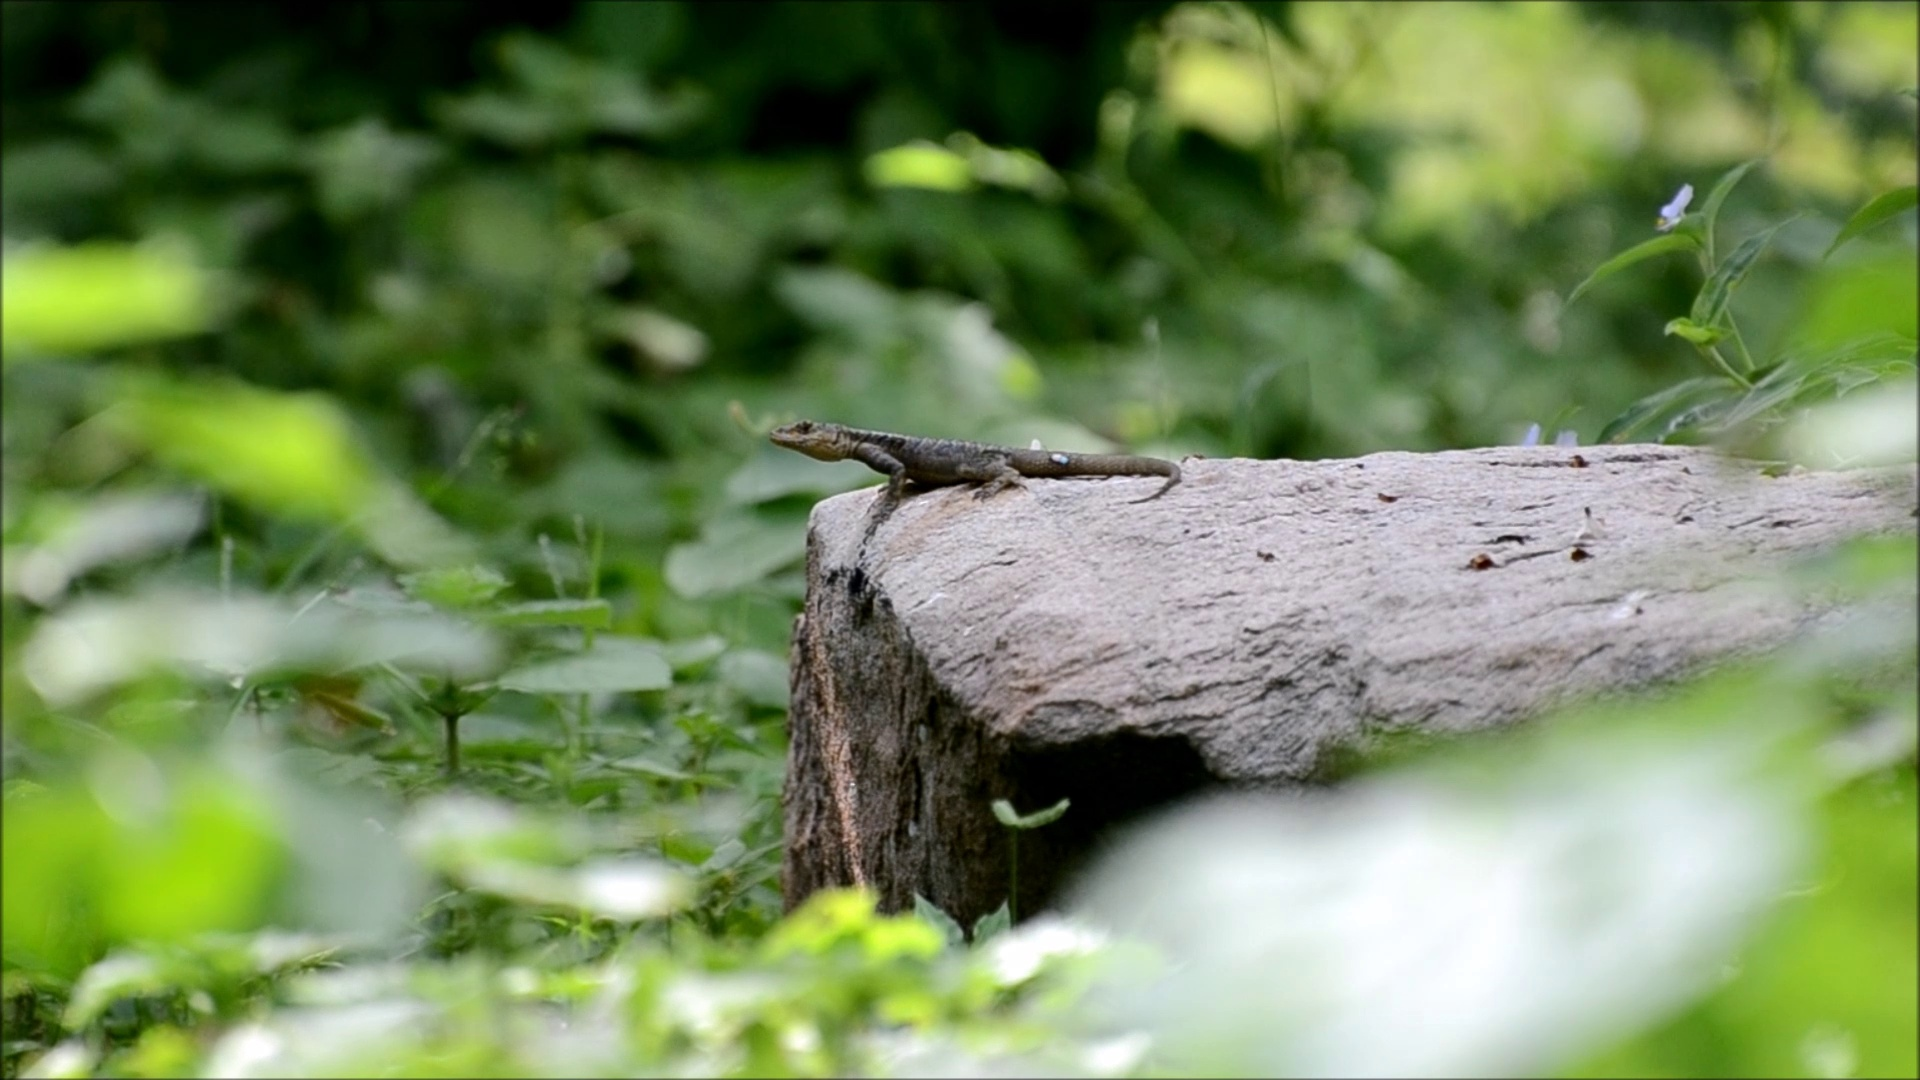body: (849, 427, 1182, 504)
head: (768, 418, 848, 463)
